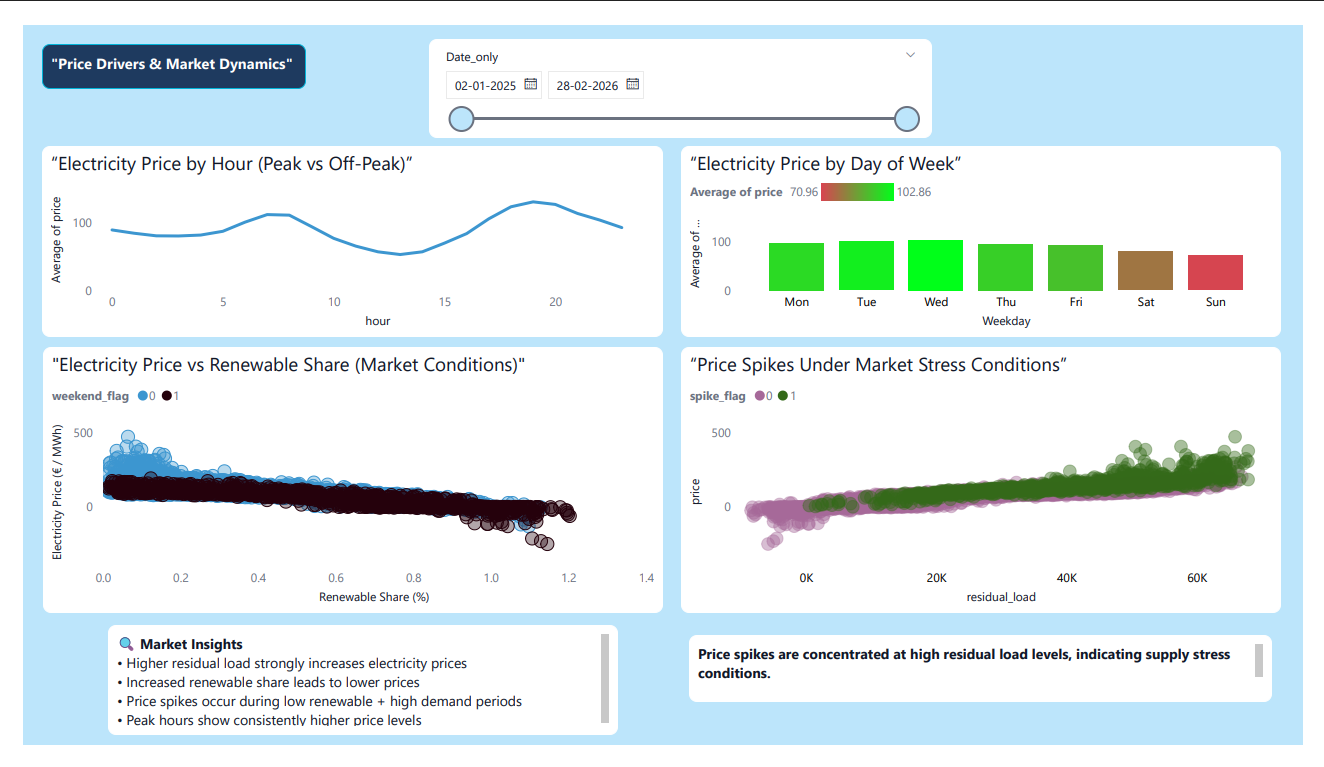

Layout of this report page (visuals, bound fields, positions):
{"tool":"powerbi","page":{"name":"Price Drivers & Market Dynamics","canvas":[1280,720],"ordinal":1},"visuals":[{"type":"slicer","fields":{"Values":["powerbi_final_dataset.Date_only"]},"box":[405.8,14,503.5,98.8],"z":0},{"type":"scatterChart","title":"\"Electricity Price vs Renewable Share (Market Conditions)\"","fields":{"X":["powerbi_final_dataset.renewable_share"],"Y":["powerbi_final_dataset.price"],"Series":["powerbi_final_dataset.weekend_flag"]},"box":[19.8,322.1,619.8,266.3],"z":1000},{"type":"lineChart","title":"“Electricity Price by Hour (Peak vs Off-Peak)”","fields":{"Category":["powerbi_final_dataset.hour"],"Y":["Avg(powerbi_final_dataset.price)"]},"box":[18.6,120.9,620.9,190.7],"z":2000},{"type":"clusteredColumnChart","title":"“Electricity Price by Day of Week”","fields":{"Y":["Avg(powerbi_final_dataset.price)"],"Category":["DateTable.Weekday"]},"box":[658.1,120.9,600,190.7],"z":3000},{"type":"textbox","box":[84.9,600,510.5,110.5],"z":4000},{"type":"scatterChart","title":"“Price Spikes Under Market Stress Conditions”","fields":{"X":["powerbi_final_dataset.residual_load"],"Y":["powerbi_final_dataset.price"],"Series":["powerbi_final_dataset.spike_flag"]},"box":[658.1,322.1,600,266.3],"z":5000},{"type":"textbox","box":[666.3,610.5,582.6,66.3],"z":6000},{"type":"textbox","box":[18.6,18.6,264,45.3],"z":6001}]}

Visuals, with their boxes in screenshot pixels (x1, y1, x2, y2), scaled from the page's 1280x720 canvas onto the 1324x767 screenshot:
slicer - powerbi_final_dataset.Date_only: 420, 15, 941, 120
""Electricity Price vs Renewable Share (Market Conditions)"" scatterChart: 20, 343, 662, 627
"“Electricity Price by Hour (Peak vs Off-Peak)”" lineChart: 19, 129, 661, 332
"“Electricity Price by Day of Week”" clusteredColumnChart: 681, 129, 1301, 332
textbox: 88, 639, 616, 757
"“Price Spikes Under Market Stress Conditions”" scatterChart: 681, 343, 1301, 627
textbox: 689, 650, 1292, 721
textbox: 19, 20, 292, 68
